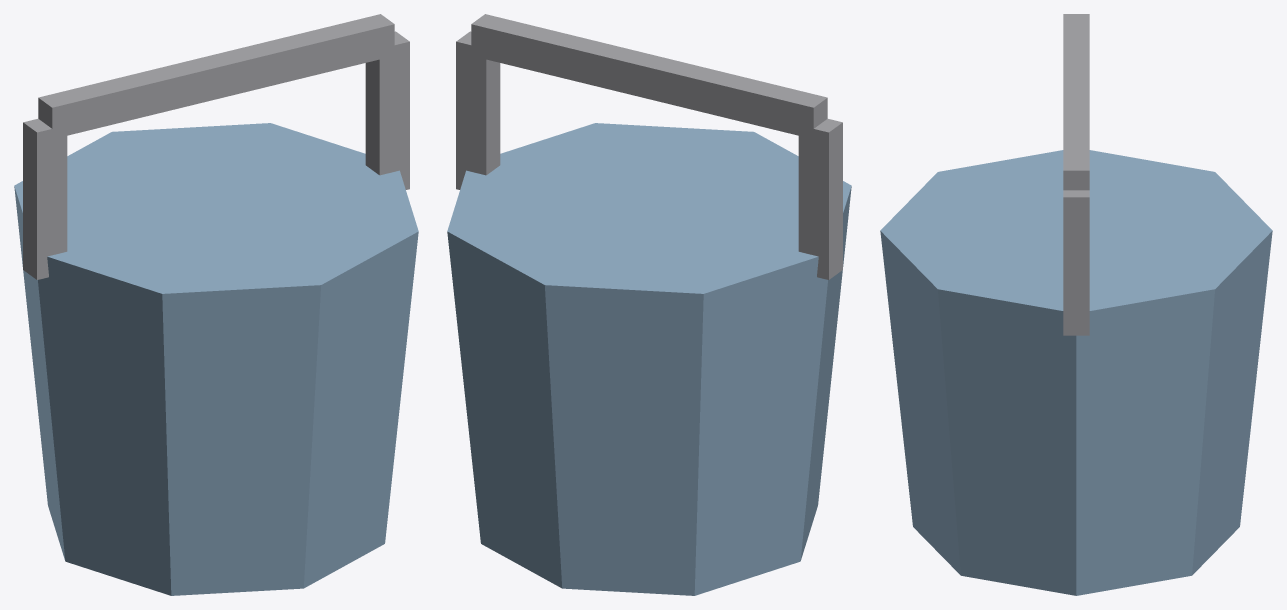
Rendered from Bucket.fbx.
The picture shows the model from 3 angles, left to right: view 1: azimuth 30°, elevation 25°; view 2: azimuth 150°, elevation 25°; view 3: azimuth 270°, elevation 25°; orthographic projection. The views are drawn at different scales.
Visible parts, largest first — view 1: Bucket; view 2: Bucket; view 3: Bucket.
Boxes of the visible parts, box(x1,y1,x2,y2) form: Bucket: box(14, 14, 418, 595); Bucket: box(447, 14, 851, 595); Bucket: box(880, 14, 1272, 595).
Bounding box in the file's own units: 0.37 × 0.44 × 0.36.
